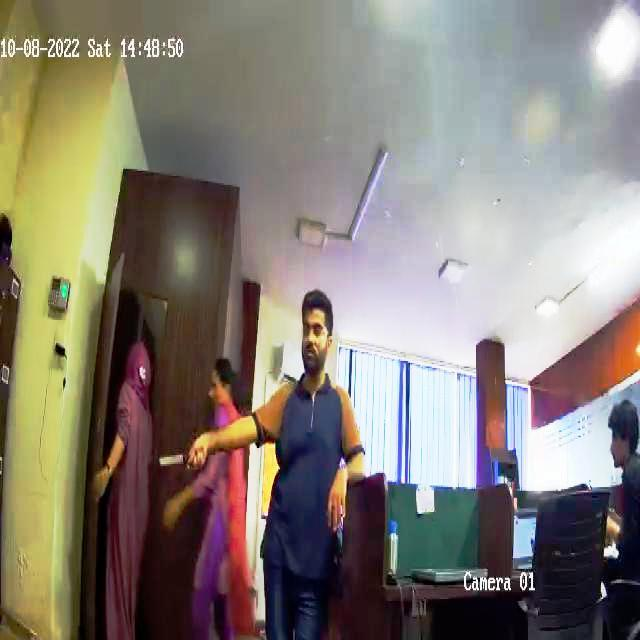Knife: (148, 445, 244, 477)
